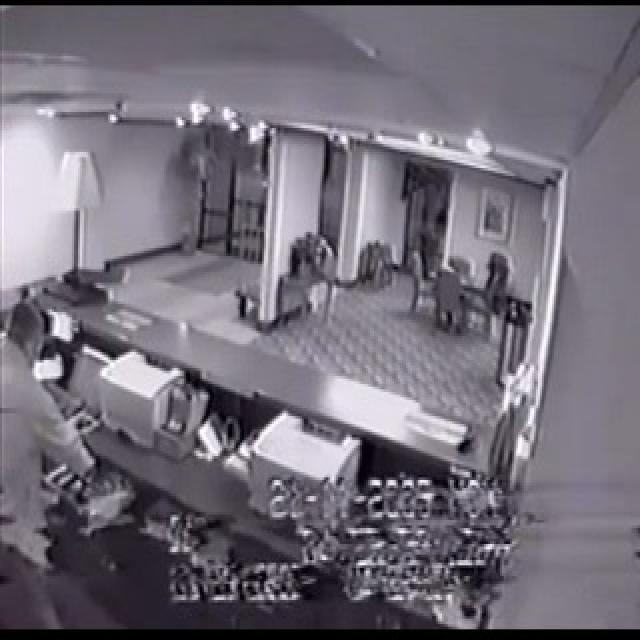thief: (0, 301, 131, 623)
